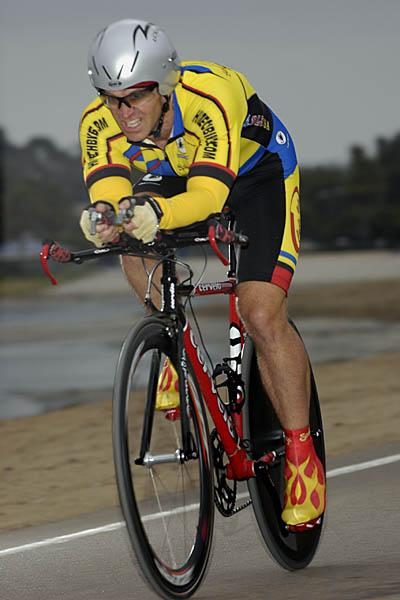person: (80, 19, 326, 538)
